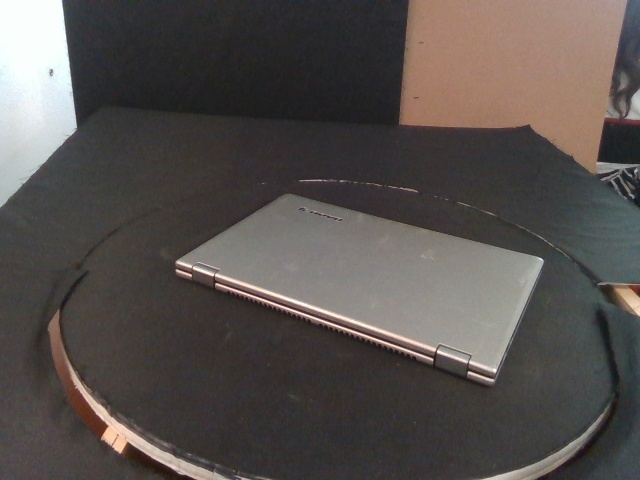laptop: (174, 193, 544, 388)
